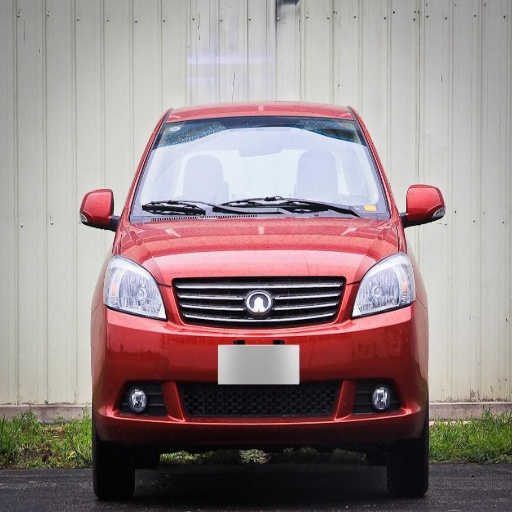front_bumper: (97, 278, 415, 437)
front_right_light: (102, 259, 167, 320)
hood: (115, 212, 398, 321)
left_mirror: (402, 184, 444, 227)
